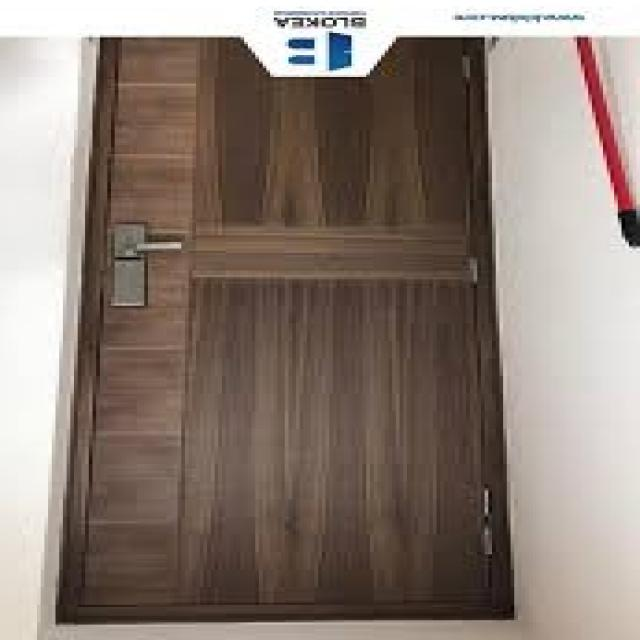door: (61, 36, 516, 624)
